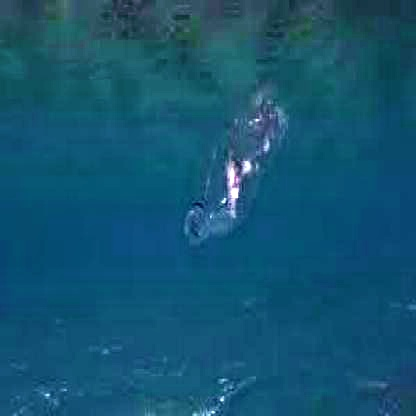pbottle: (177, 89, 295, 270)
